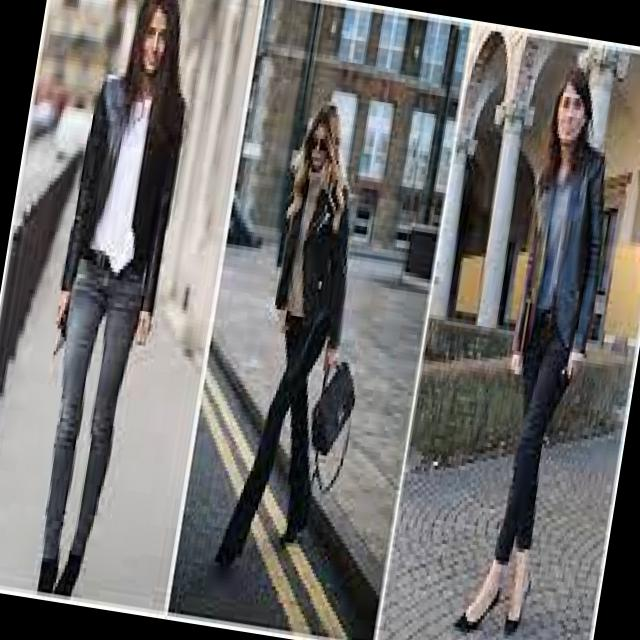Jacket: (43, 62, 198, 351), (500, 137, 620, 390), (256, 168, 370, 371)
